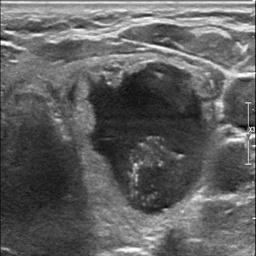mass: (83, 59, 207, 208)
